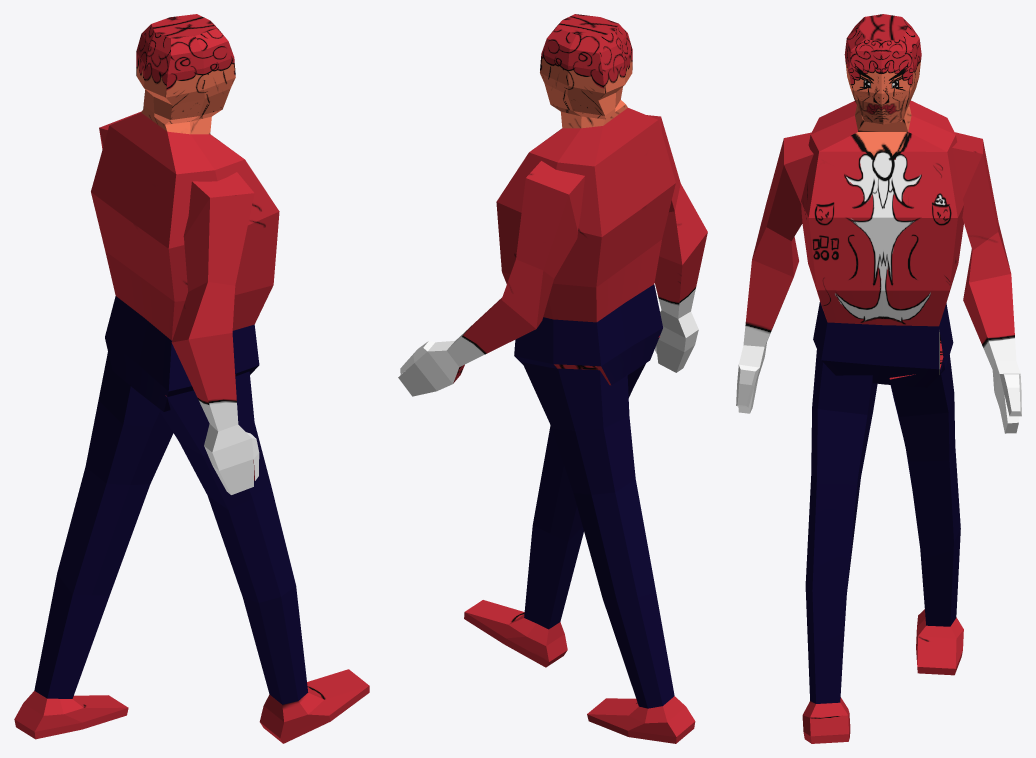
Rendered from Marche.fbx.
The picture shows the model from 3 angles, left to right: view 1: azimuth 30°, elevation 25°; view 2: azimuth 150°, elevation 25°; view 3: azimuth 270°, elevation 25°; orthographic projection. The views are drawn at different scales.
Visible parts, largest first — view 1: Cube.001; view 2: Cube.001; view 3: Cube.001.
Part boxes in pixels (<box>): Cube.001: <box>14,14,369,743</box>; Cube.001: <box>398,14,707,743</box>; Cube.001: <box>736,14,1021,743</box>.
Bounding box in the file's own units: 181 × 435 × 167.
